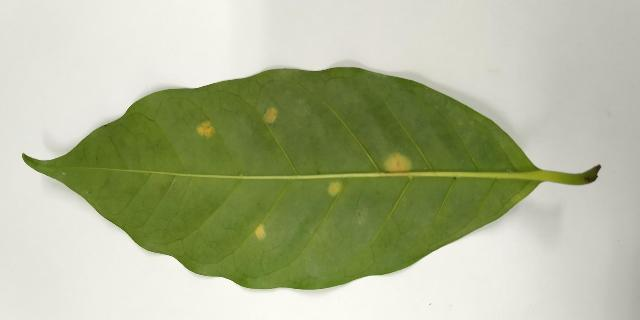miner: (386, 153, 410, 173), (197, 122, 214, 136), (253, 223, 266, 240), (328, 182, 341, 194), (265, 108, 276, 121)
